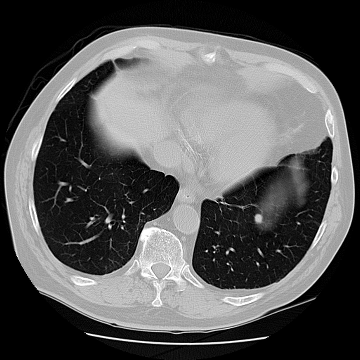nodule: (255, 215, 263, 223)
